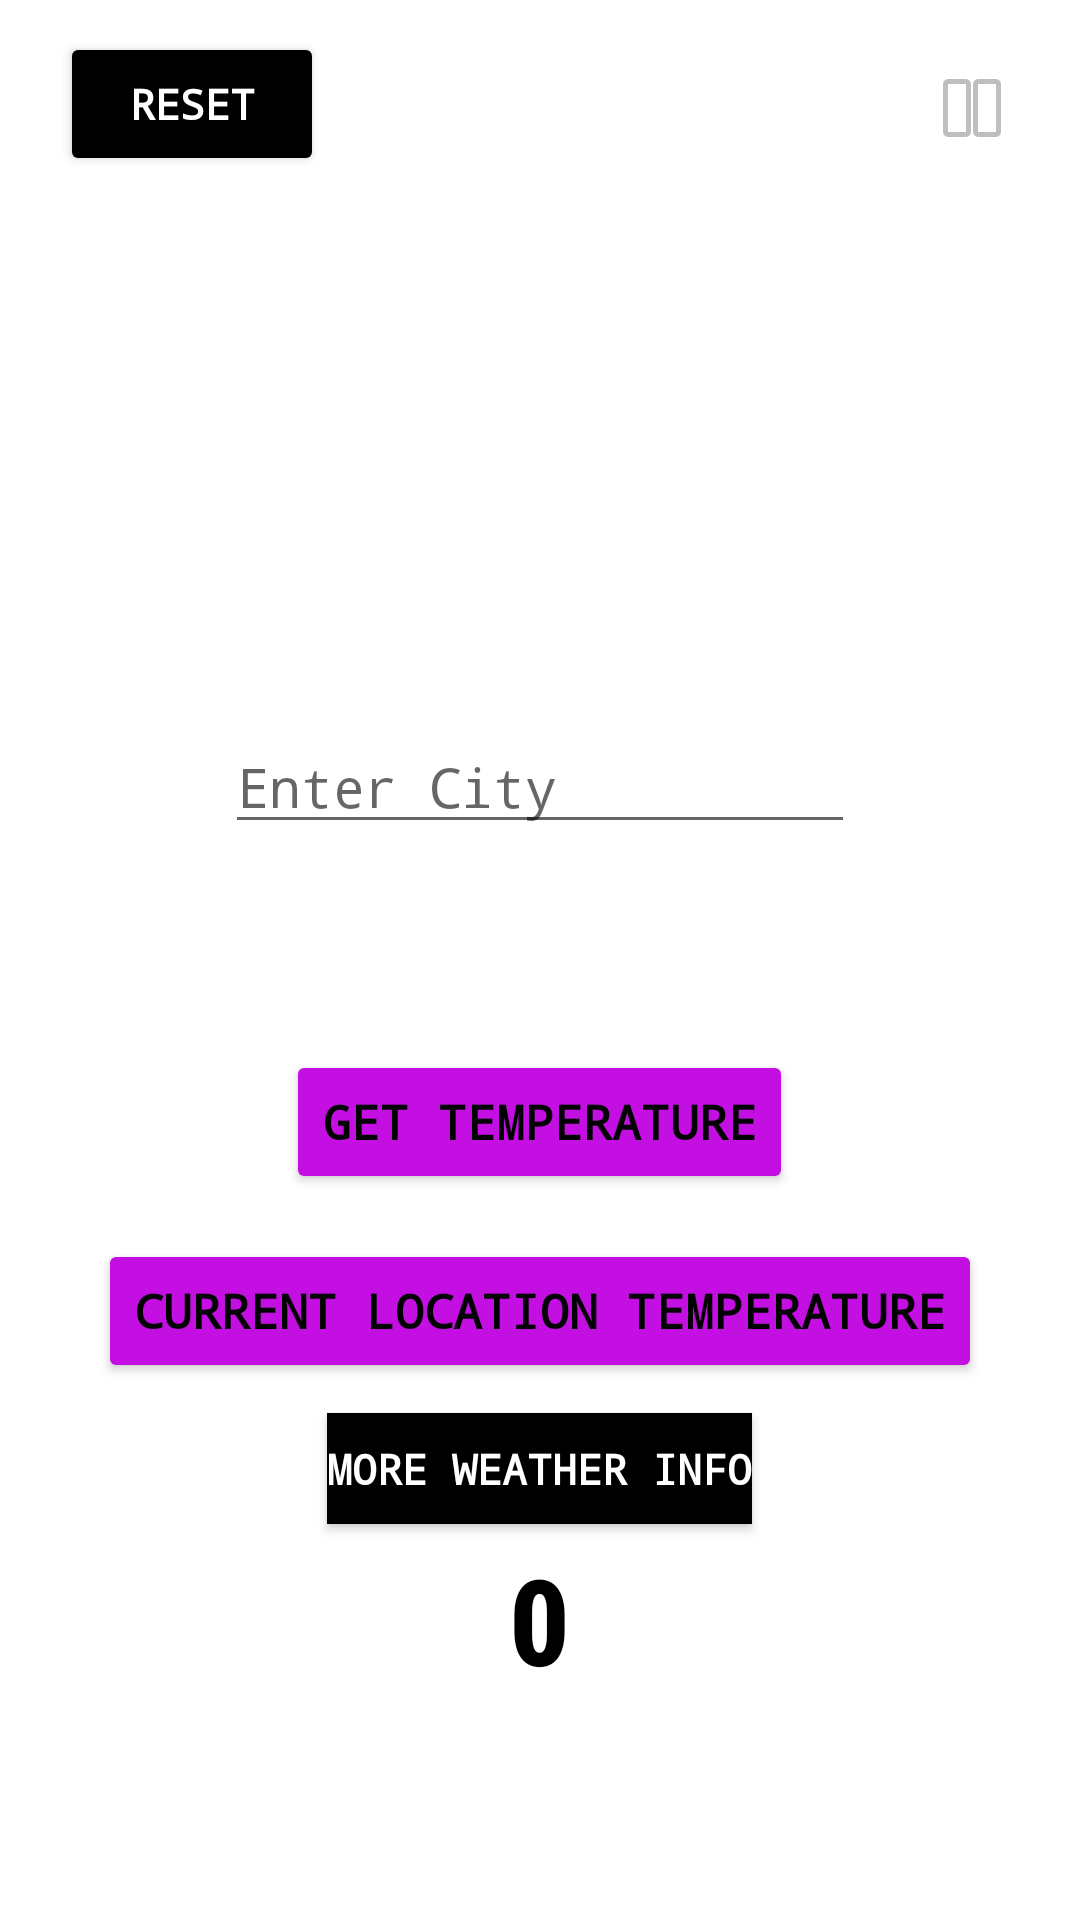

Point at icon controls on the screen. Image size 1080 x 1920, points as [x,y].
pause: [972,108]
